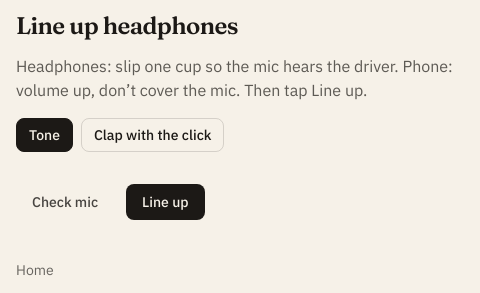
Scenario: CalibrationPage › offers Tone and Clap with the click
Expected: the text "slip one cup so the mic hears the driver" is shown, [16,56,453,100]
Expected: the button "Line up" is shown, [126,184,205,220]
What coordinates should you click on to do the following:
click the button "Clap with the click"
I would click on:
 (153, 135)
Its box is [81,118,224,152].
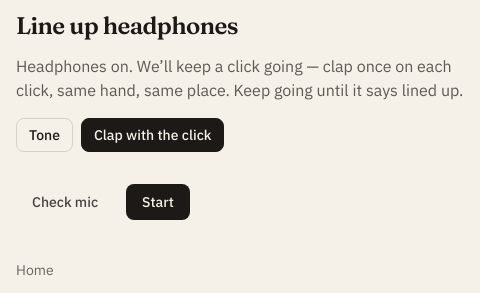
Expected: the button "Check mic" is shown, [16,184,114,220]
Expected: the text "clap once on each click" is shown, [16,56,463,100]
Expected: the button "Start" is shown, [126,184,190,220]
